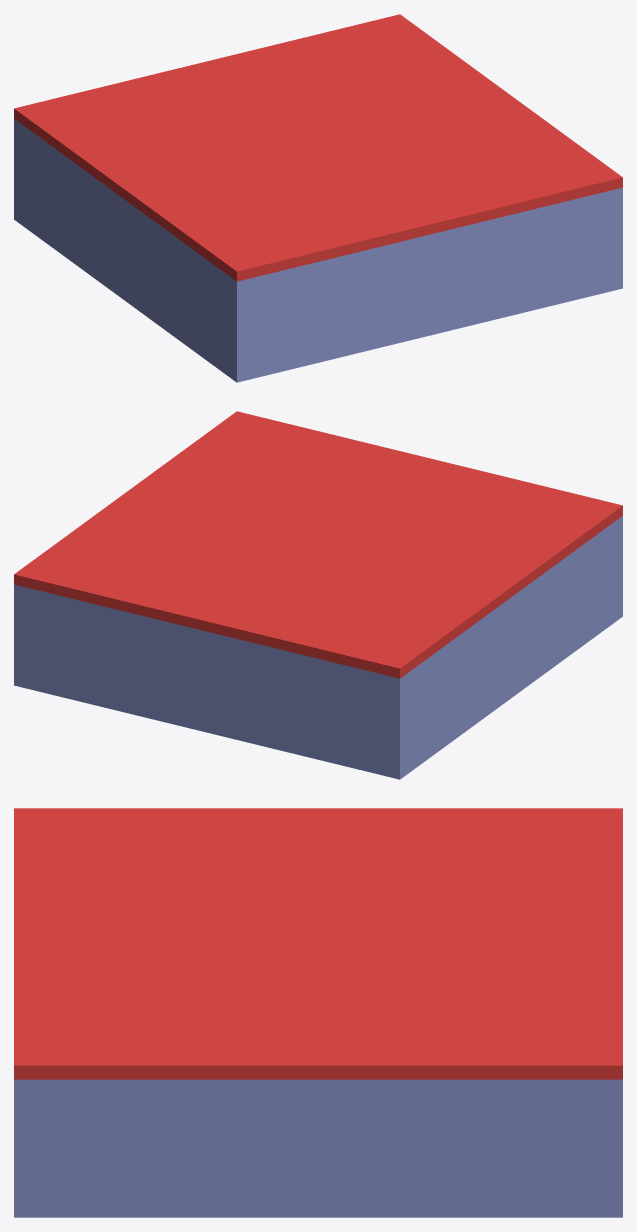
File: tileWholeCenter.fbx
The picture shows the model from 3 angles, top to bottom: view 1: azimuth 30°, elevation 25°; view 2: azimuth 150°, elevation 25°; view 3: azimuth 270°, elevation 25°; orthographic projection. The views are drawn at different scales.
Parts seen in each view (by area): view 1: tileWholeCenter; view 2: tileWholeCenter; view 3: tileWholeCenter.
Part boxes in pixels (box(x1,y1,x2,y2)): tileWholeCenter: box(14, 14, 622, 382); tileWholeCenter: box(14, 411, 622, 779); tileWholeCenter: box(14, 808, 622, 1217).
Bounding box in the file's own units: 400 × 110 × 400.
